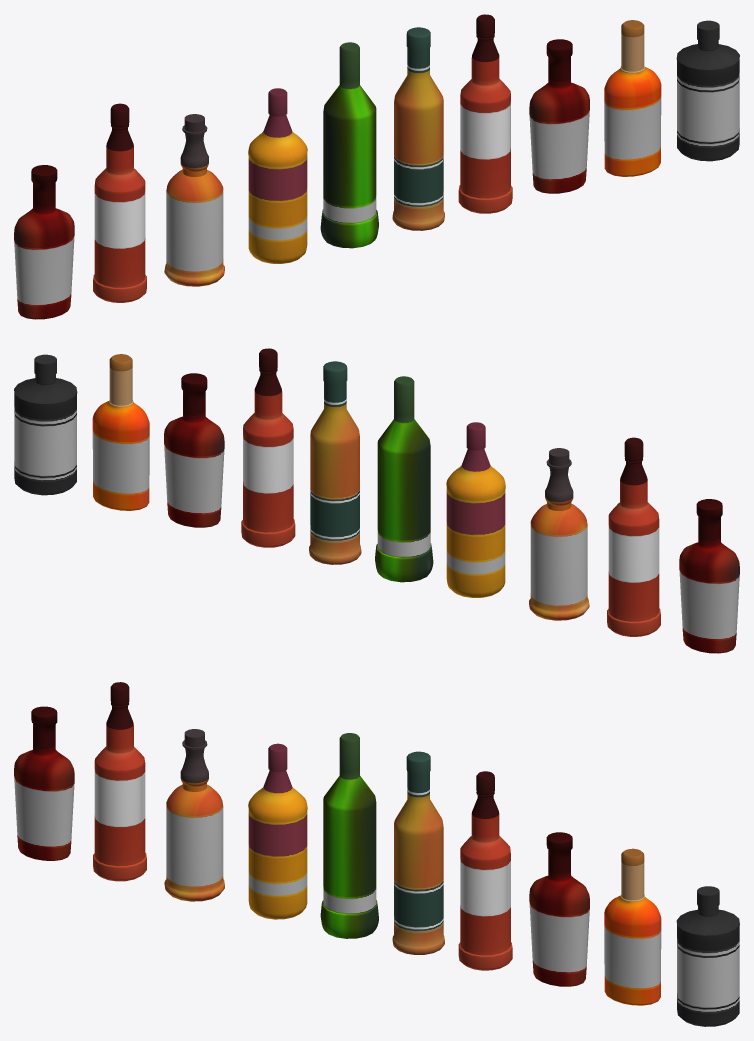
Rendered from Bottles01_1.FBX.
3 views of the same model, one above another, from view 1: azimuth 30°, elevation 25°; view 2: azimuth 150°, elevation 25°; view 3: azimuth 330°, elevation 25° (orthographic).
Parts seen in each view (by area): view 1: Bottles01_1; view 2: Bottles01_1; view 3: Bottles01_1.
Boxes of the visible parts, x1,y1,x2,y2 form: Bottles01_1: (14, 14, 739, 319); Bottles01_1: (14, 348, 739, 653); Bottles01_1: (14, 682, 739, 1026).
Size of the model in its own units: 121 by 30.73 by 9.31.
